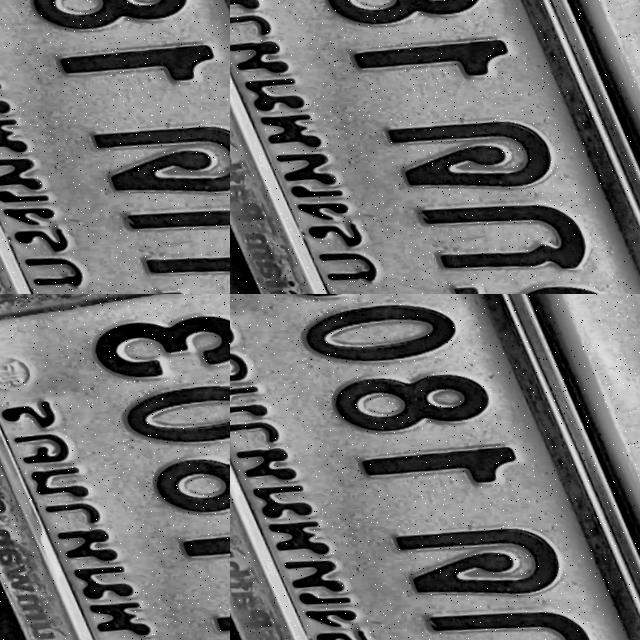license-plate: (230, 294, 640, 640)
